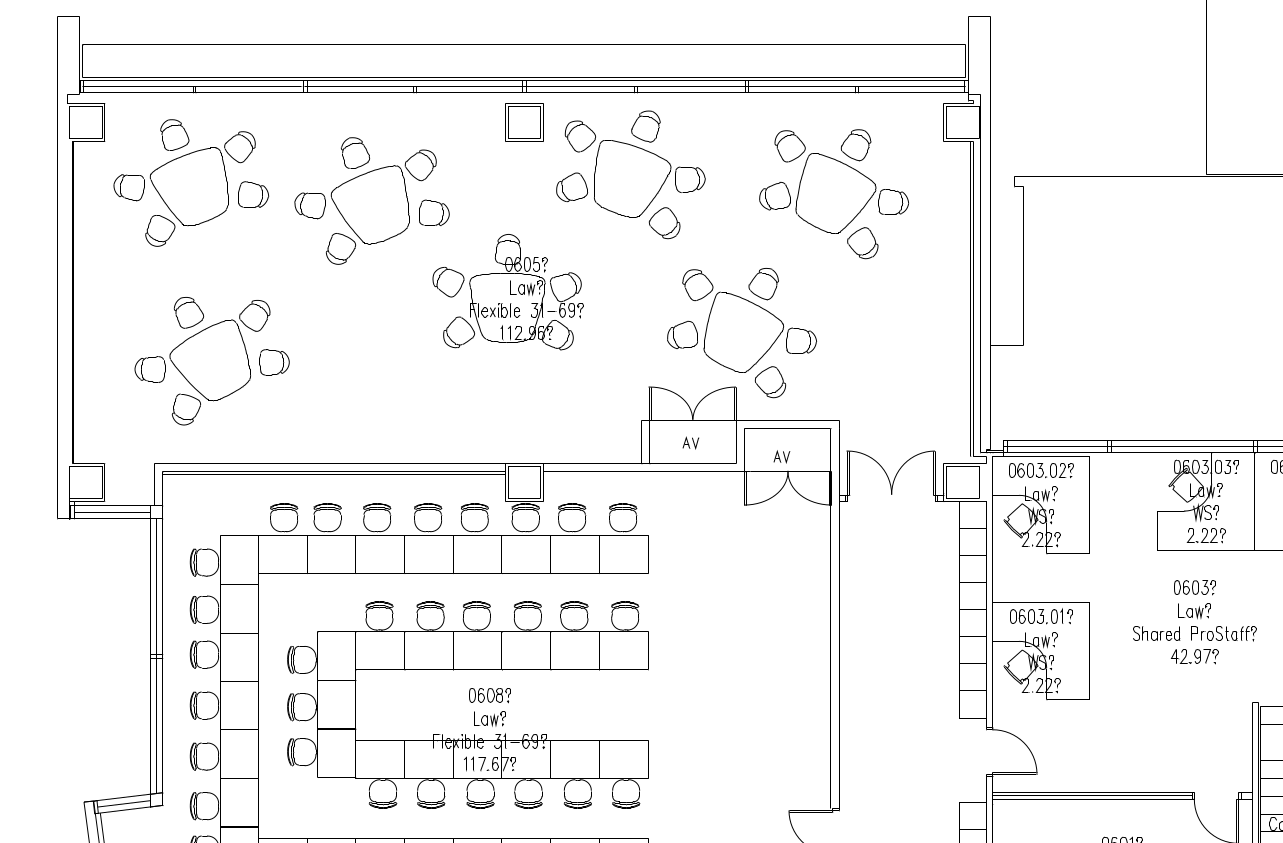door: (843, 444, 893, 503), (888, 441, 938, 500), (990, 720, 1040, 779), (1191, 784, 1241, 843), (644, 381, 692, 424), (692, 381, 740, 424), (740, 467, 788, 510), (786, 467, 834, 510)
